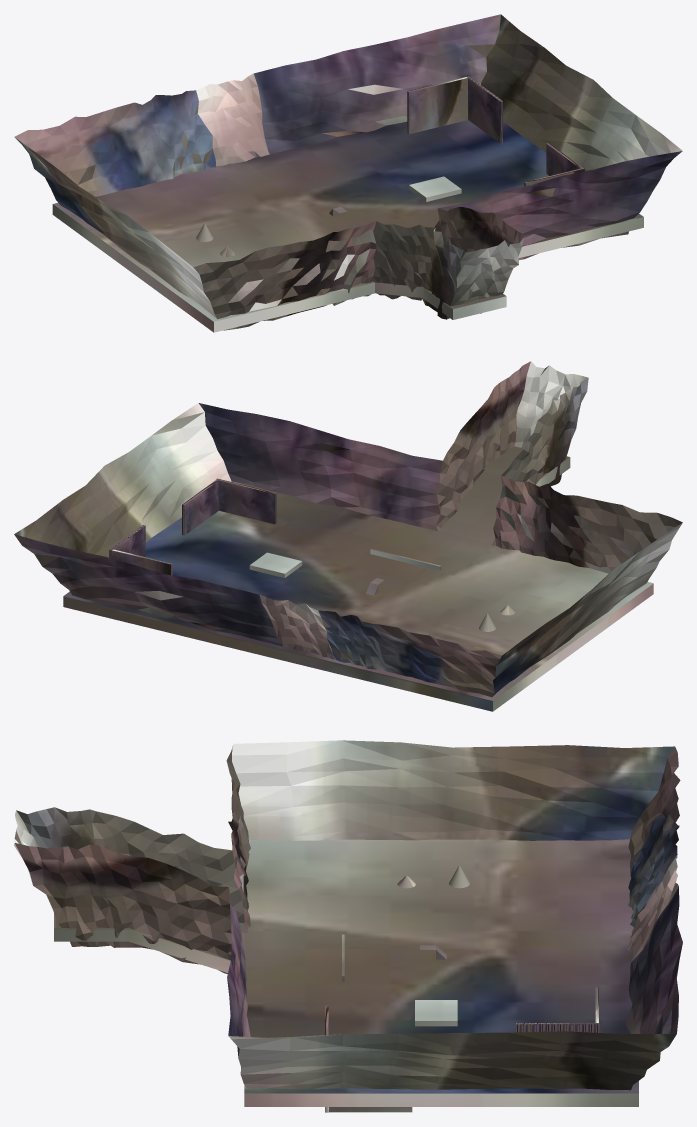
The model's file is map.glb.
3 views of the same model, one above another, from view 1: azimuth 30°, elevation 25°; view 2: azimuth 150°, elevation 25°; view 3: azimuth 270°, elevation 25° (orthographic). The views are drawn at different scales.
Parts seen in each view (by area): view 1: Cube.003, Cube, Cube.001; view 2: Cube.003, Cube, Cube.001; view 3: Cube.003, Cube, Cube.001.
Part boxes in pixels (left/top/right/bottom): Cube.003: left=14, top=14, right=682, bottom=330; Cube: left=52, top=120, right=643, bottom=332; Cube.001: left=407, top=76, right=584, bottom=186; Cube.003: left=14, top=361, right=682, bottom=697; Cube: left=63, top=446, right=653, bottom=711; Cube.001: left=109, top=478, right=276, bottom=575; Cube.003: left=14, top=740, right=682, bottom=1090; Cube: left=54, top=839, right=638, bottom=1106; Cube.001: left=325, top=987, right=599, bottom=1112.
Size of the model in its own units: 120 by 30.54 by 116.
Materials: 1 (1 with a texture image).
